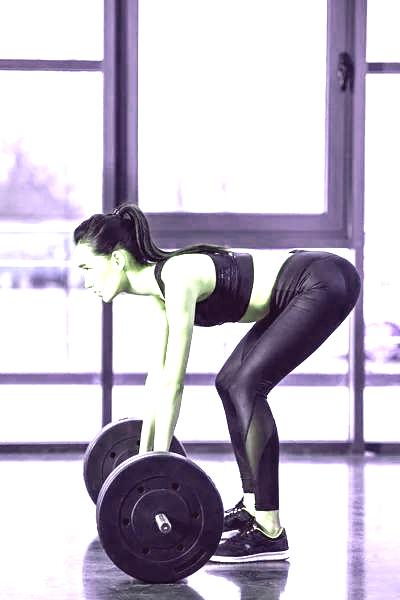Barbell: (152, 519, 174, 542)
